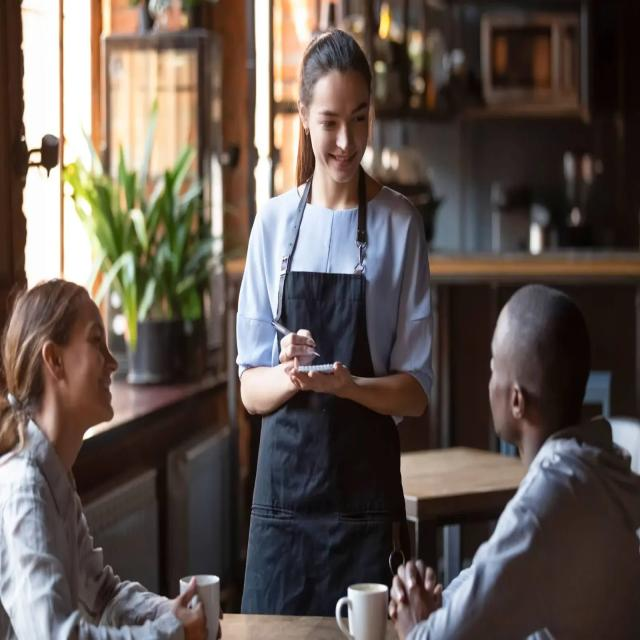person: (248, 37, 422, 605), (467, 285, 640, 640), (12, 277, 154, 640)
